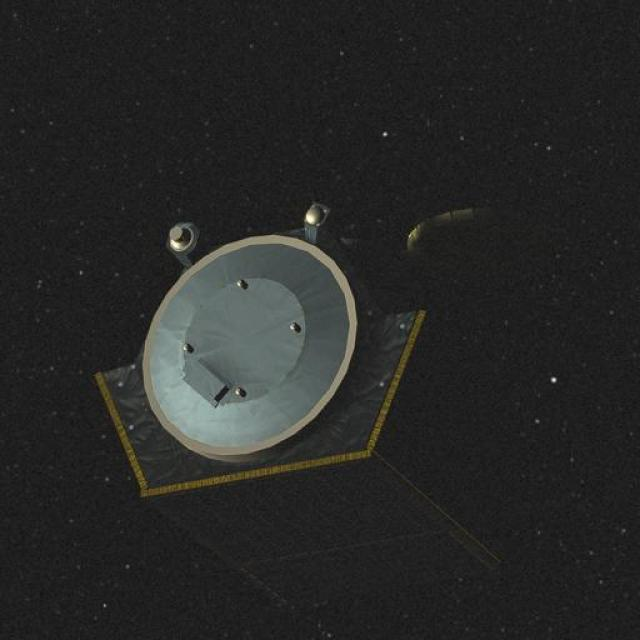cheops: (78, 189, 633, 640)
